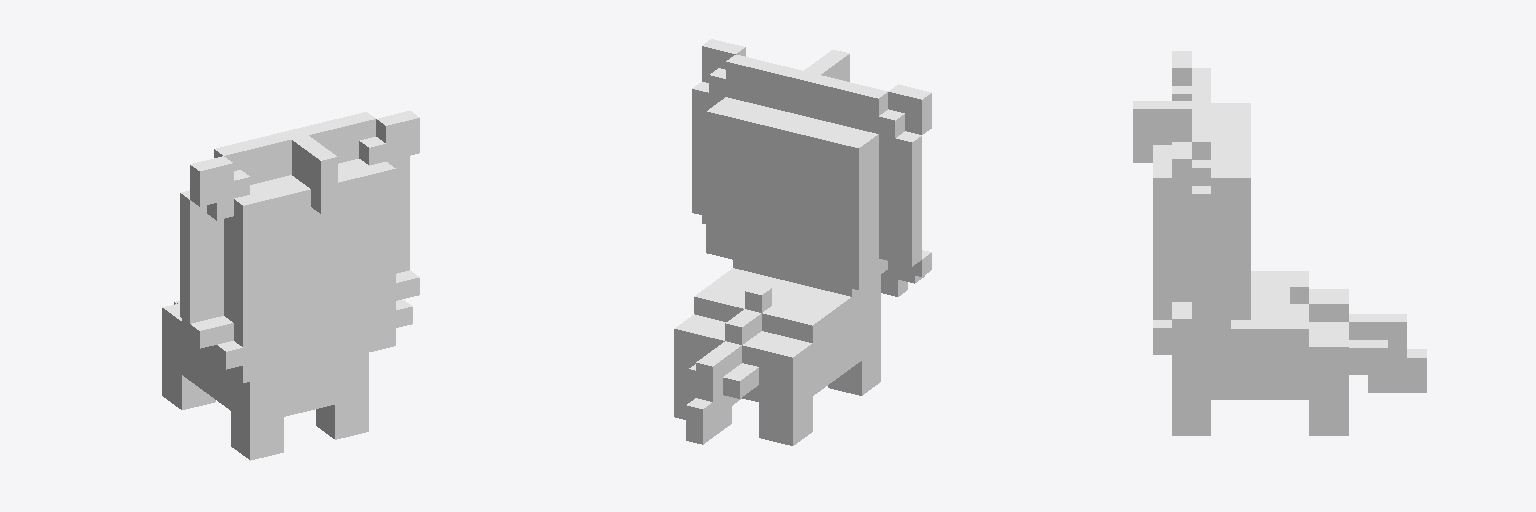
Rendered from wateevee.obj.
3 views of the same model, side by side, from view 1: azimuth 30°, elevation 25°; view 2: azimuth 150°, elevation 25°; view 3: azimuth 270°, elevation 25° (orthographic).
Visible parts, largest first — view 1: object 1; view 2: object 1; view 3: object 1.
Part boxes in pixels (x1,y1,x2,y2): object 1: (162,111,419,460); object 1: (674,39,931,445); object 1: (1133,51,1426,435).
Bounding box in the file's own units: 1.3 × 1.7 × 1.5.